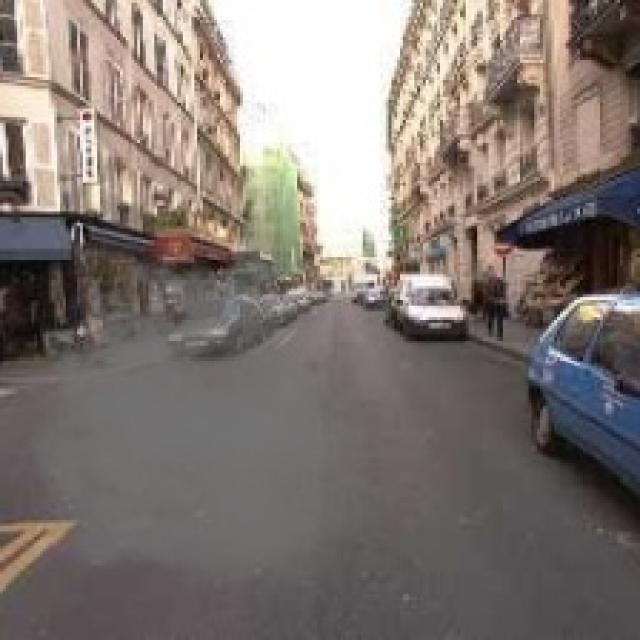Smoke: (9, 240, 368, 589)
